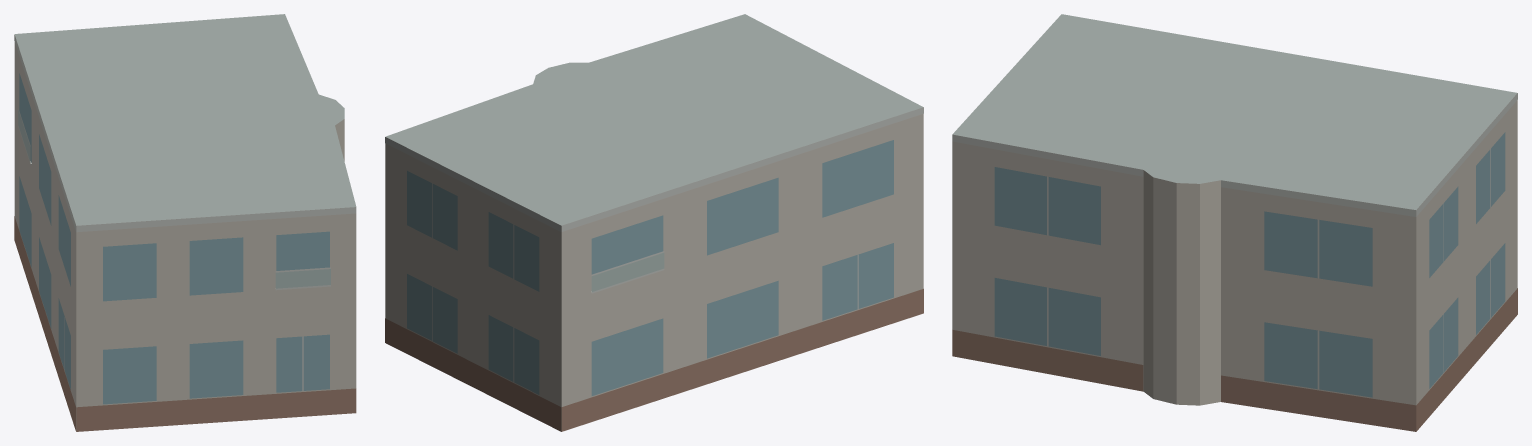
The model's file is survey-upis-33022152.glb.
3 views of the same model, side by side, from view 1: azimuth 30°, elevation 25°; view 2: azimuth 150°, elevation 25°; view 3: azimuth 270°, elevation 25° (orthographic). The views are drawn at different scales.
Visible parts, largest first — view 1: survey-upis-33022152.tmp; view 2: survey-upis-33022152.tmp; view 3: survey-upis-33022152.tmp.
Boxes of the visible parts, x1,y1,x2,y2 form: survey-upis-33022152.tmp: (14, 14, 356, 431); survey-upis-33022152.tmp: (385, 14, 923, 431); survey-upis-33022152.tmp: (952, 14, 1517, 431).
Bounding box in the file's own units: 14.81 × 7.8 × 18.04.
